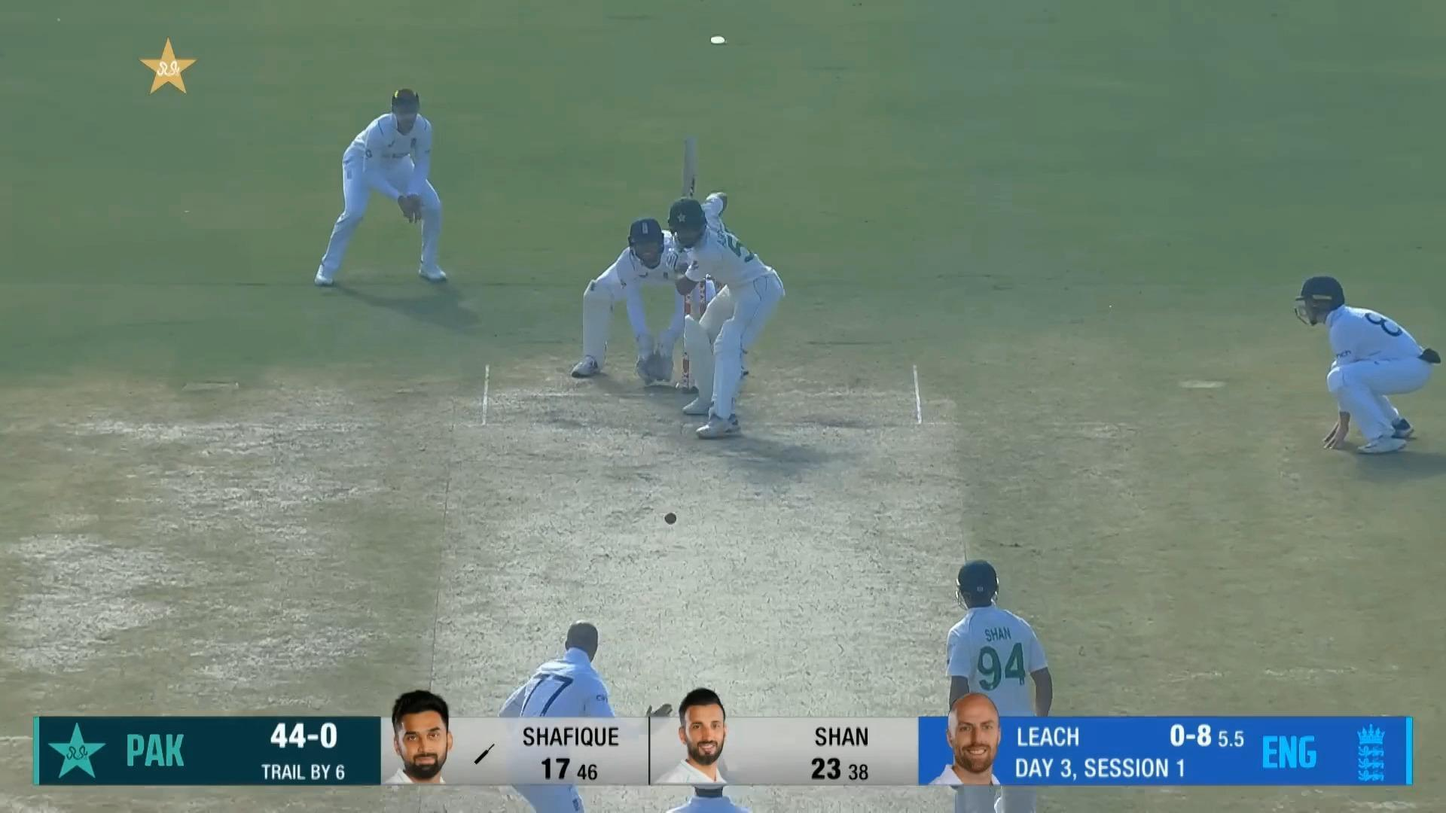BM 1: (667, 131, 786, 442)
BO: (494, 619, 677, 813)
